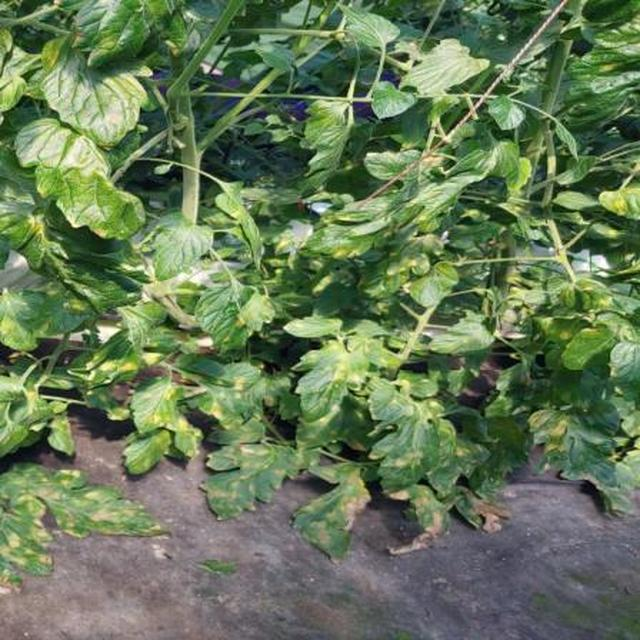Leaf Mold: (72, 51, 640, 640)
